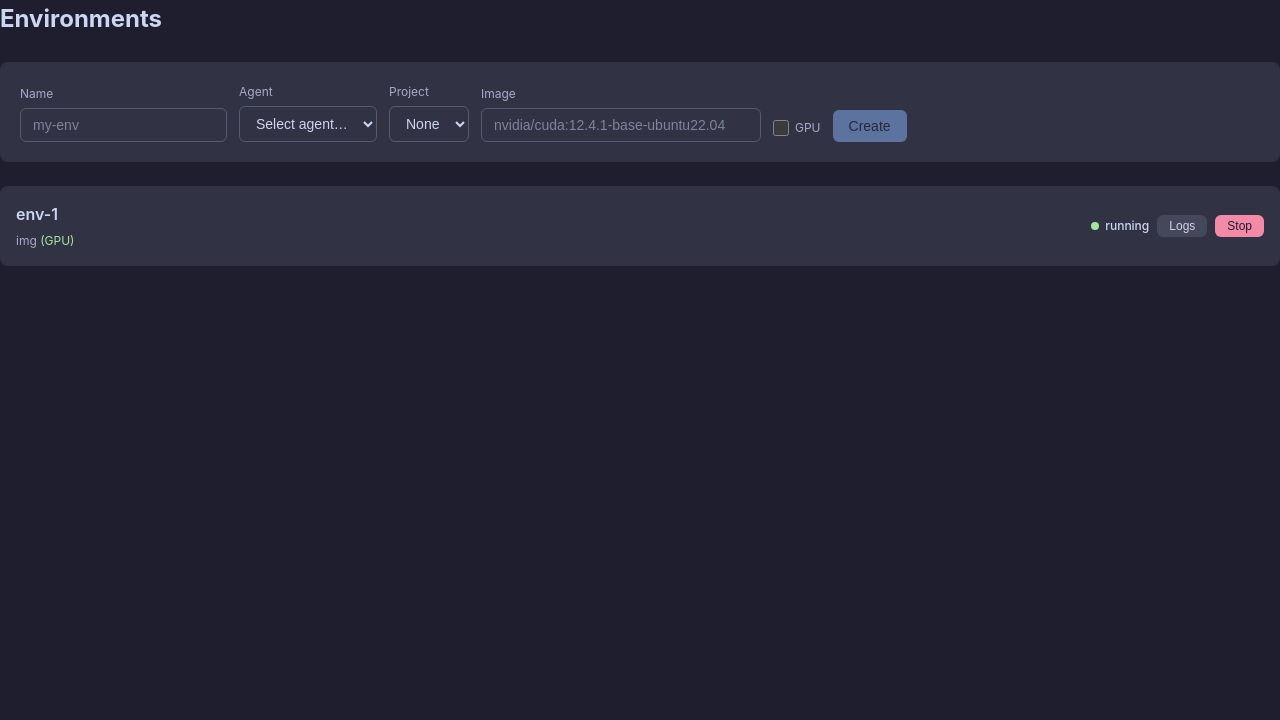
it: Environments › asks before stopping and shows the API error as a toast (K-D18)
Click the button "Stop": (1240, 226) x1=1215 y1=215 x2=1264 y2=237
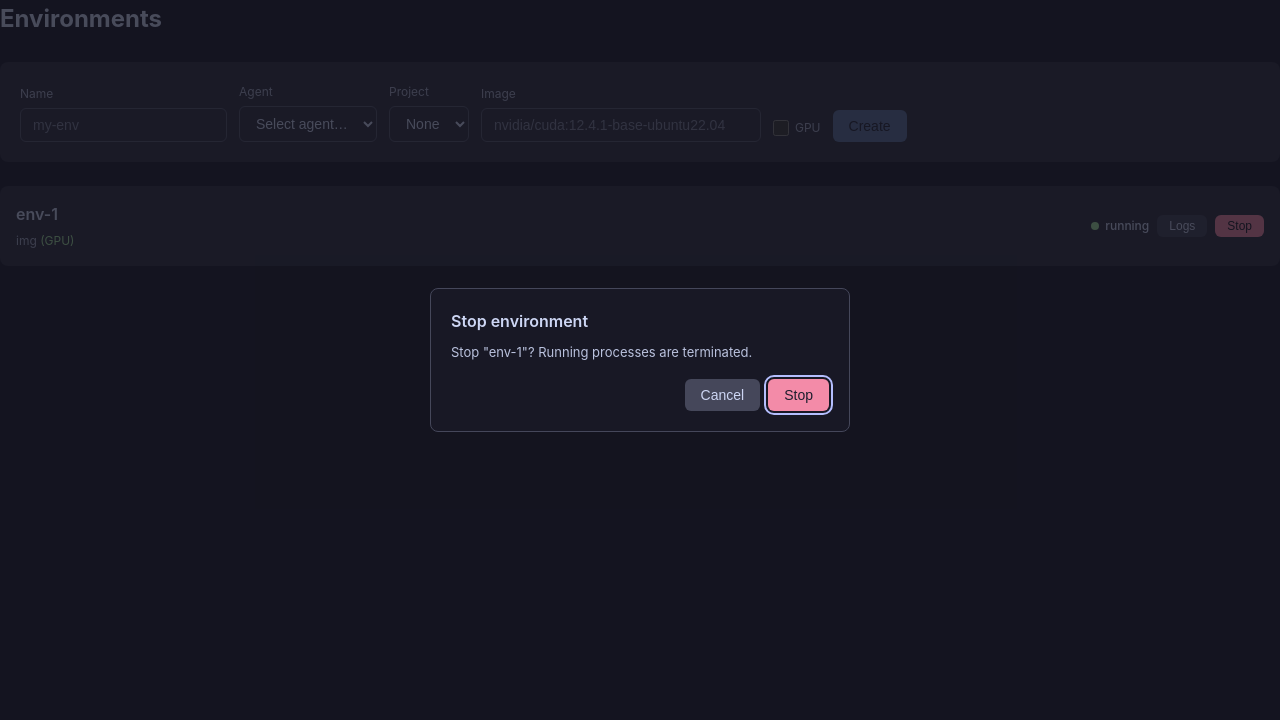
Expected: the dialog "Stop environment" is shown, x1=430 y1=288 x2=850 y2=432
Click the button "Cancel": (722, 395) x1=685 y1=379 x2=760 y2=411
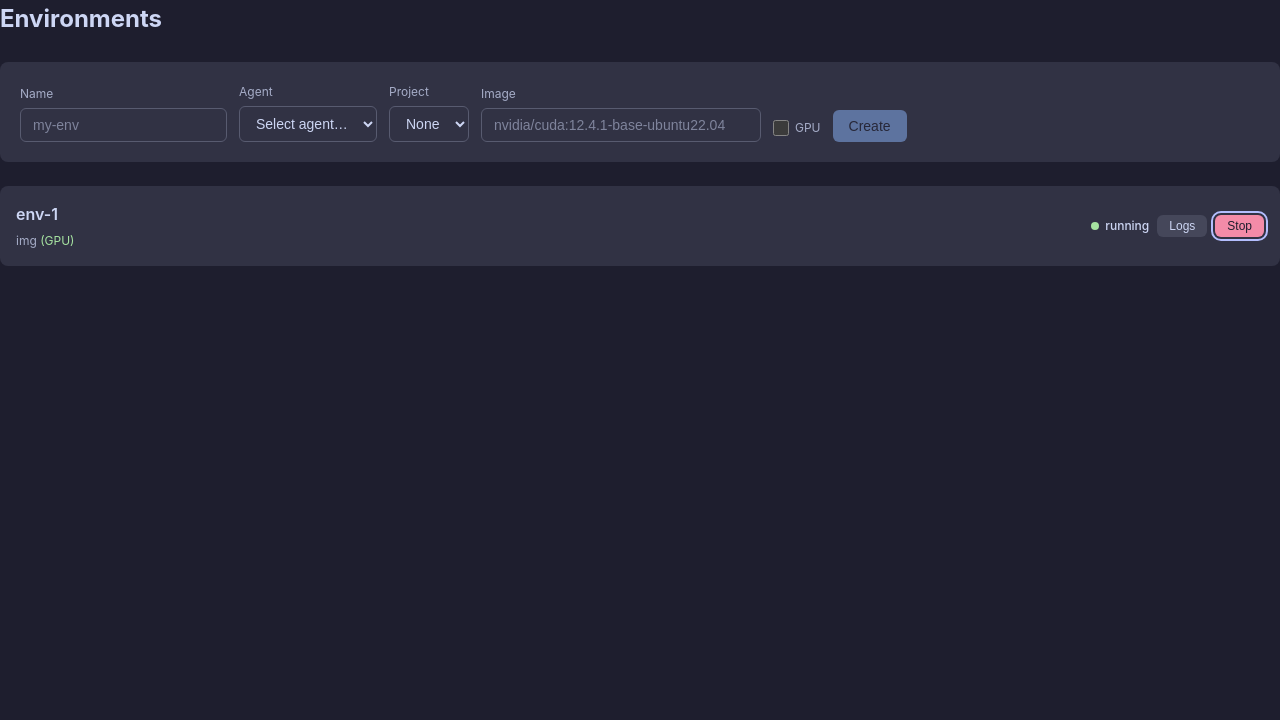
Click the button "Stop": (1240, 226) x1=1215 y1=215 x2=1264 y2=237
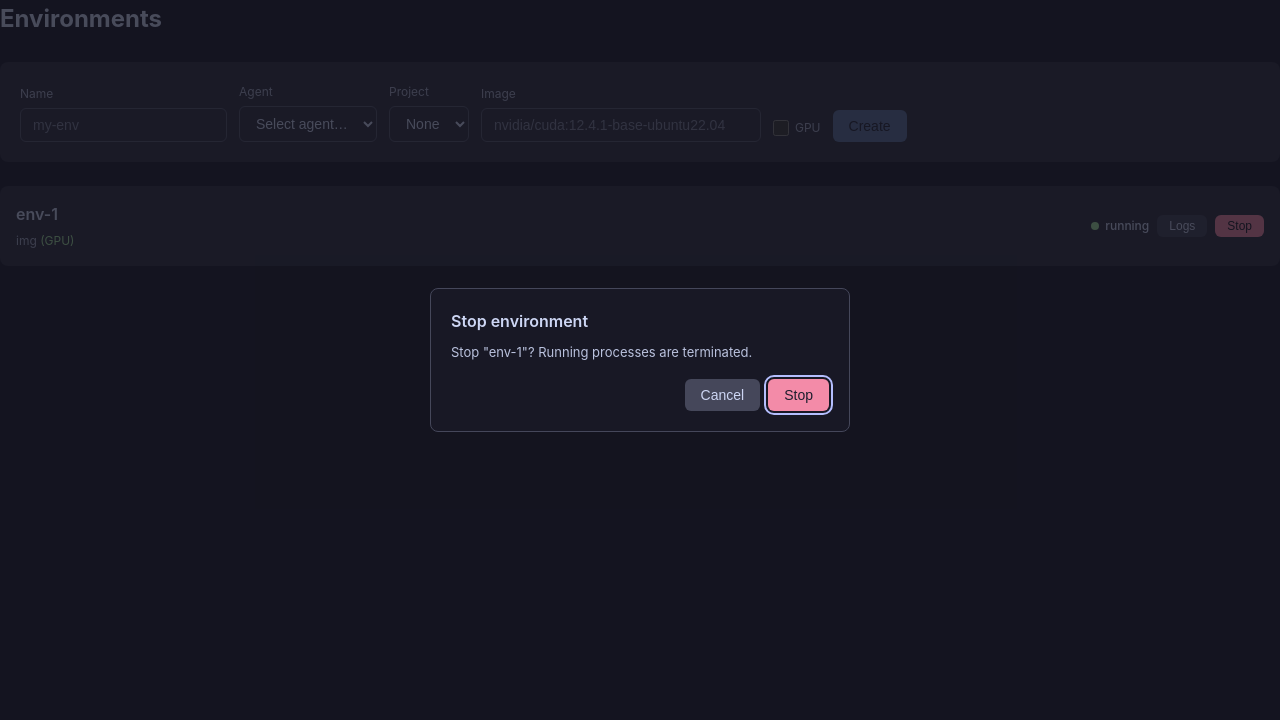
Click the button "Stop": (799, 395) x1=768 y1=379 x2=829 y2=411
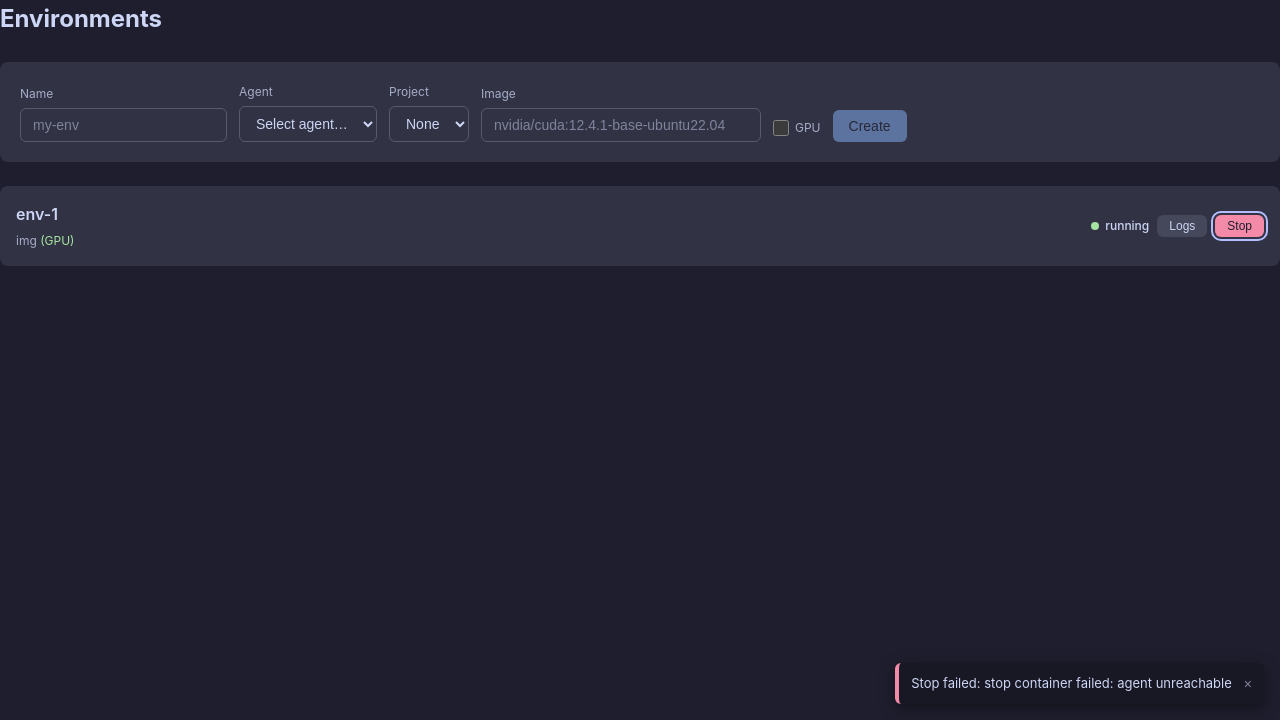
Expected: the text "Stop failed: stop container failed: agent unreachable" is shown, x1=911 y1=673 x2=1232 y2=694
